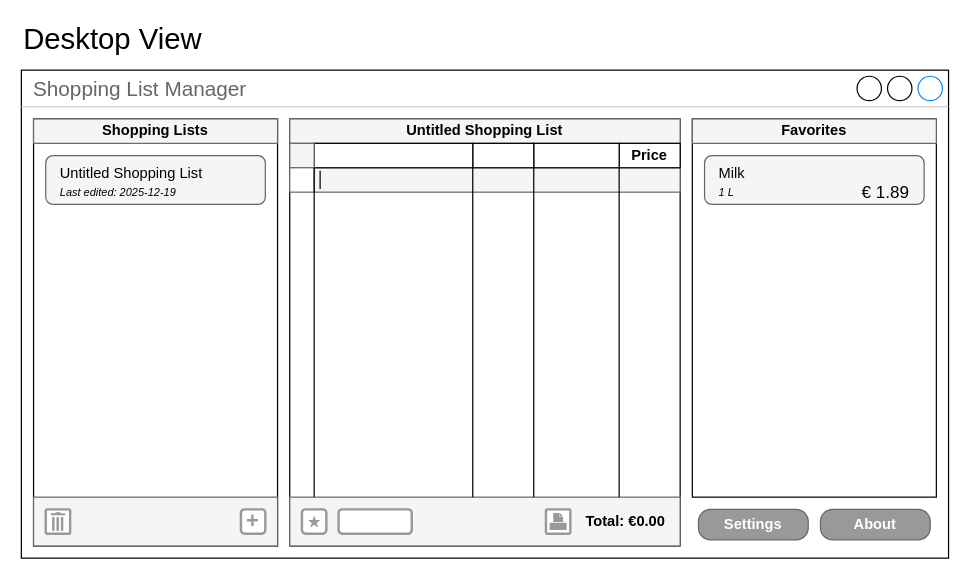
The diagram is 970 pixels wide and 580 high, and some of its shapes have lost their labels. The box of each missing label's shape, as (x1, y1, x2, y2) in pixels:
+ Head: (337, 508, 412, 534)
Amount: (533, 142, 619, 168)
Name: (313, 142, 473, 168)
Size: (472, 142, 534, 168)
